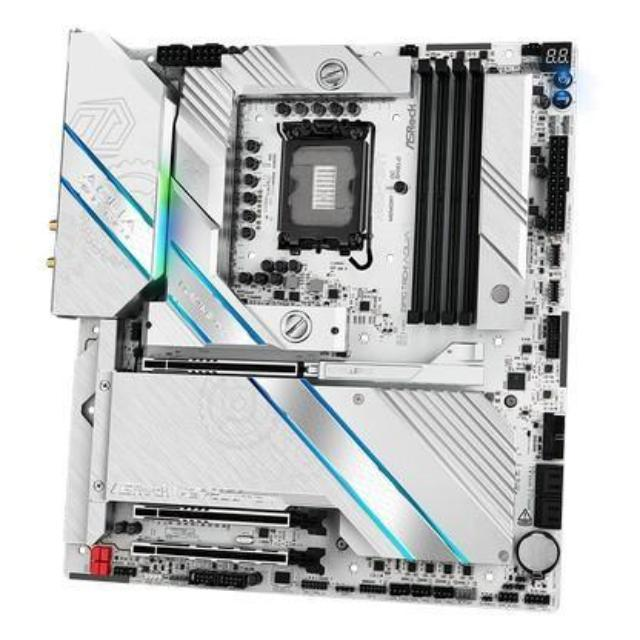Mainboard: (36, 19, 584, 612)
